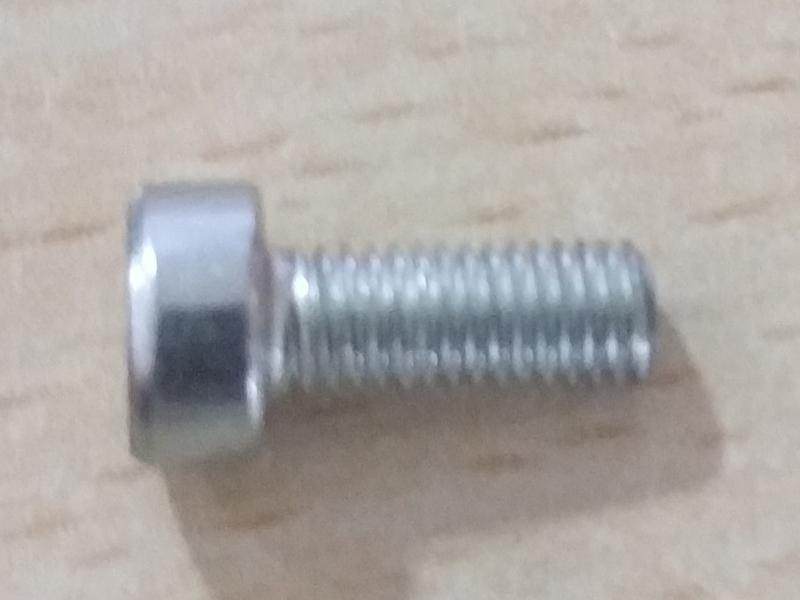smallscrew: (90, 159, 687, 484)
